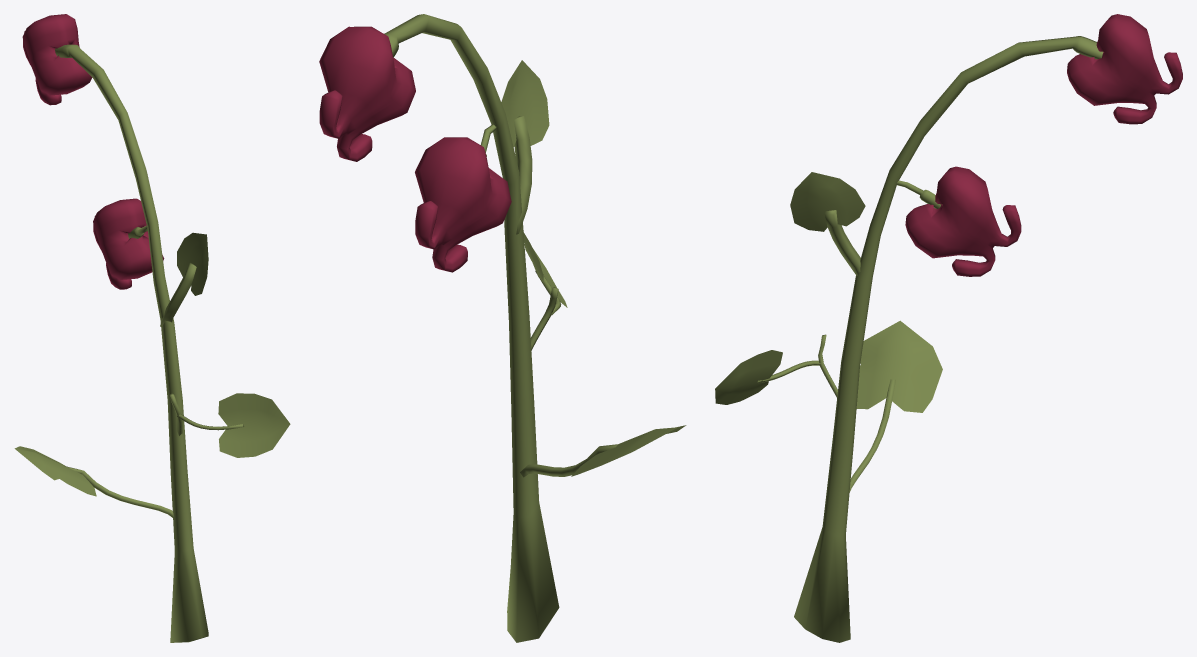
The model's file is MDL_hearty_step01.fbx.
The picture shows the model from 3 angles, left to right: view 1: azimuth 30°, elevation 25°; view 2: azimuth 150°, elevation 25°; view 3: azimuth 270°, elevation 25°; orthographic projection. The views are drawn at different scales.
Visible parts, largest first — view 1: MDL_hearty_step01; view 2: MDL_hearty_step01; view 3: MDL_hearty_step01.
Boxes of the visible parts, bbox=[...] form: MDL_hearty_step01: bbox=[14, 14, 290, 642]; MDL_hearty_step01: bbox=[319, 14, 686, 642]; MDL_hearty_step01: bbox=[715, 14, 1182, 642].
Bounding box in the file's own units: 7.39 × 19.48 × 13.36.
